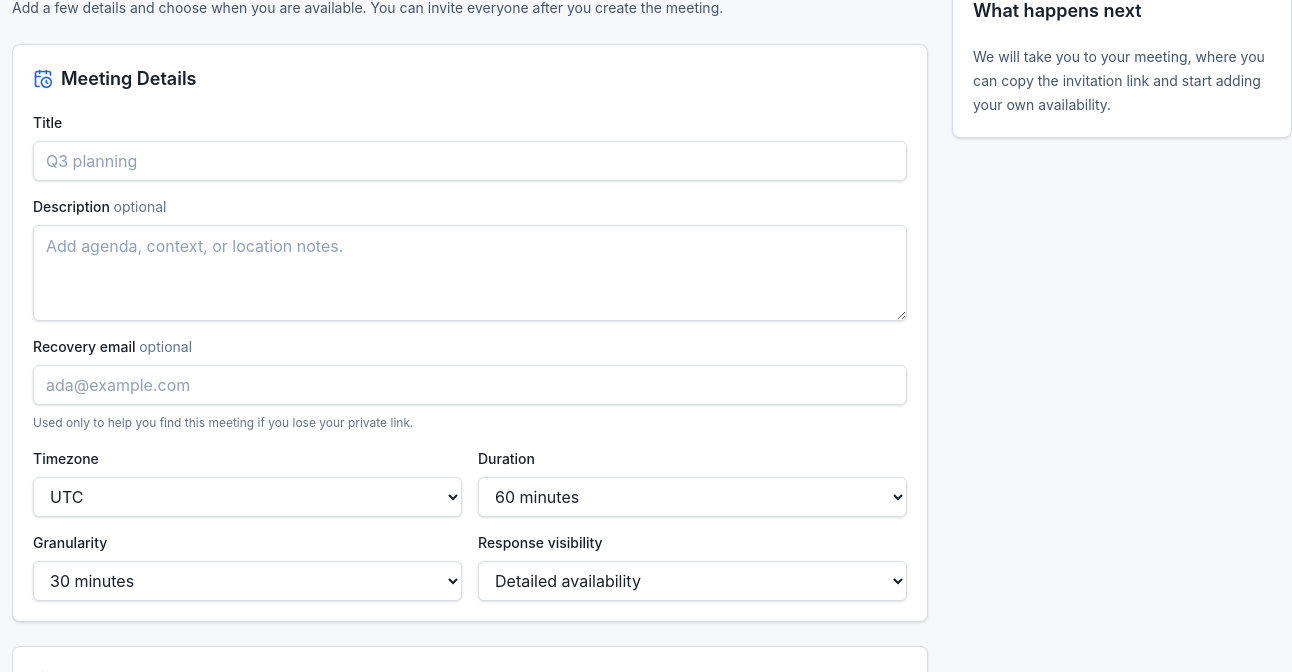
NewMeetingForm › blocks allowed ranges that cannot fit the meeting duration
The width and height of the screenshot is (1292, 672).
Type "Long workshop" into the field labelled "Title" at (470, 161), box [33,141,907,181]
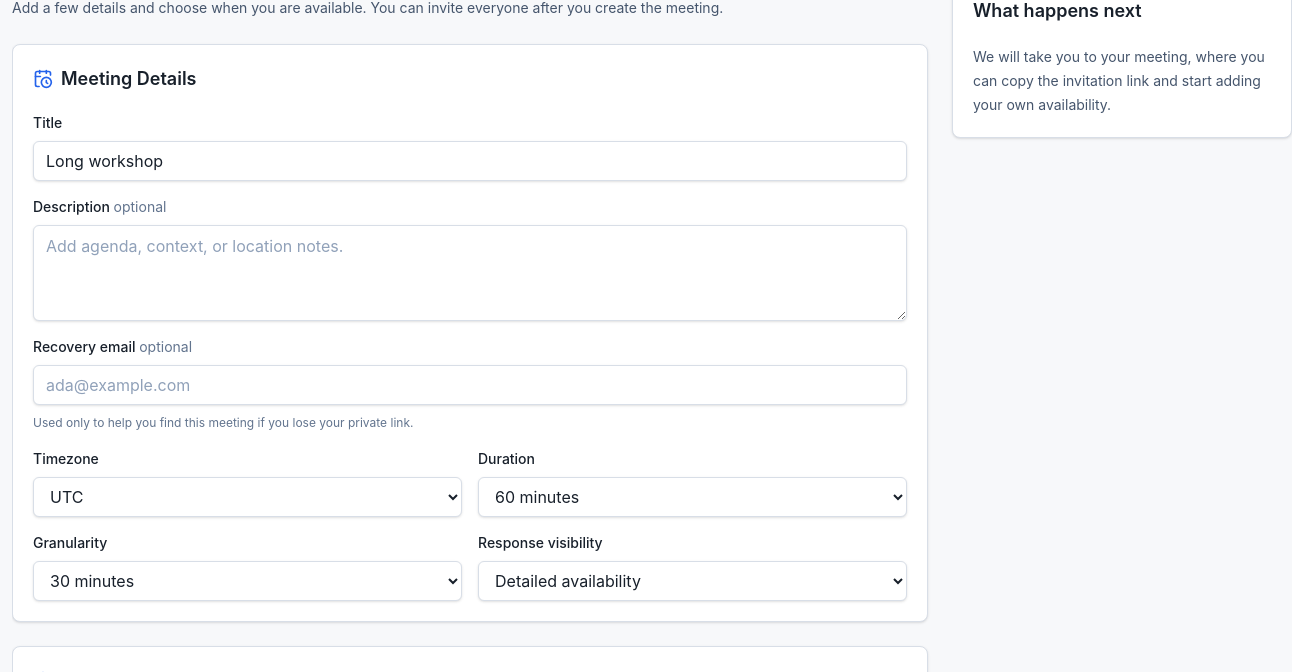
Select "2 hours" in the dropdown labelled "Duration" at (692, 497), box [478,477,907,517]
(page scrolled)
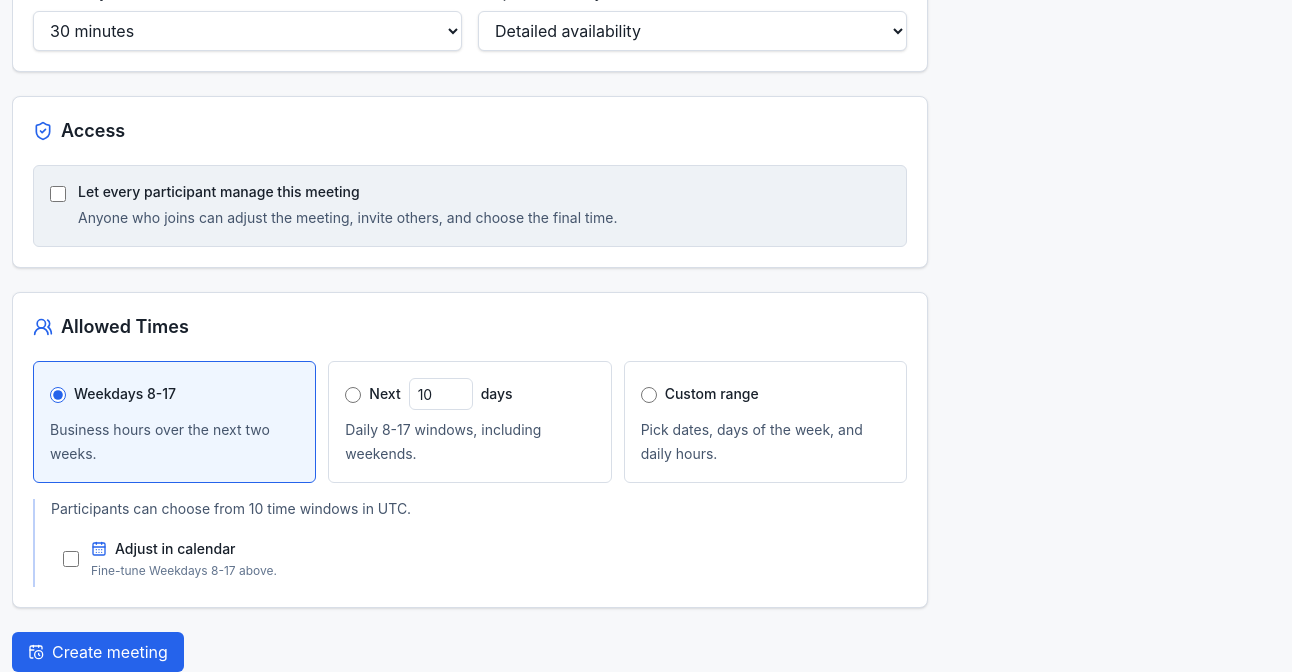
Click the radio button labelled "Custom range" at (649, 395), box [641,387,657,403]
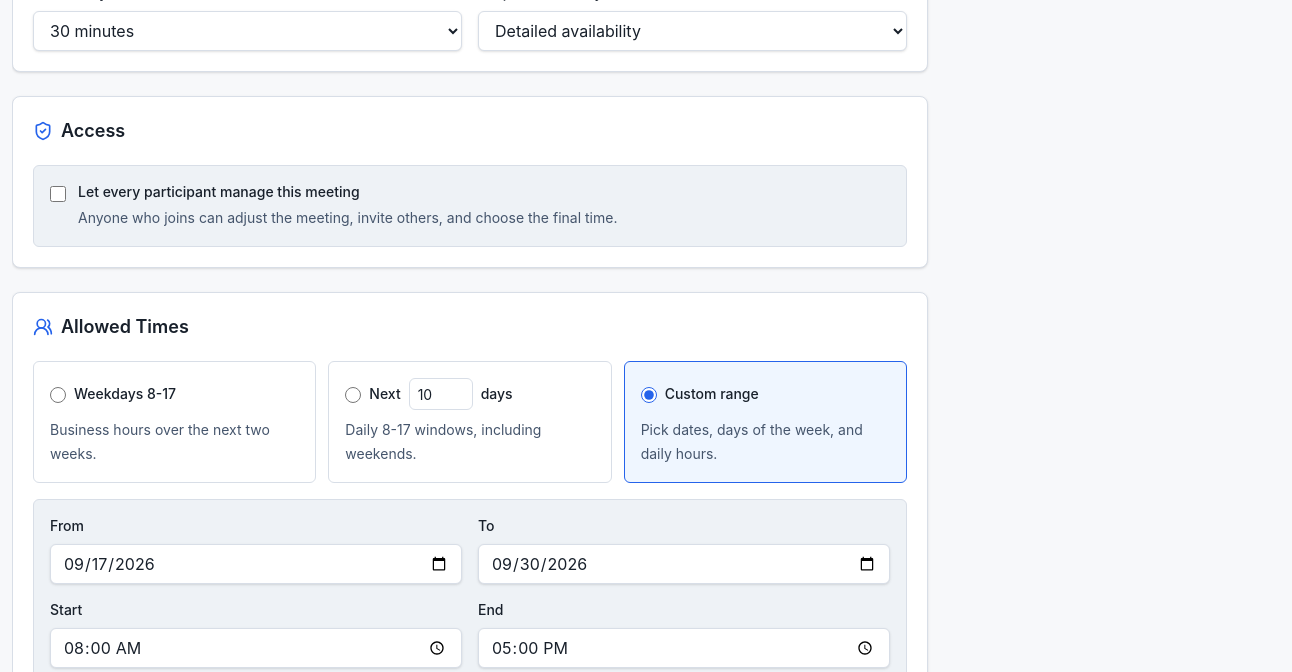
Replace the text in the time field labelled "Start" with "09:00" at (256, 648), box [50,628,462,668]
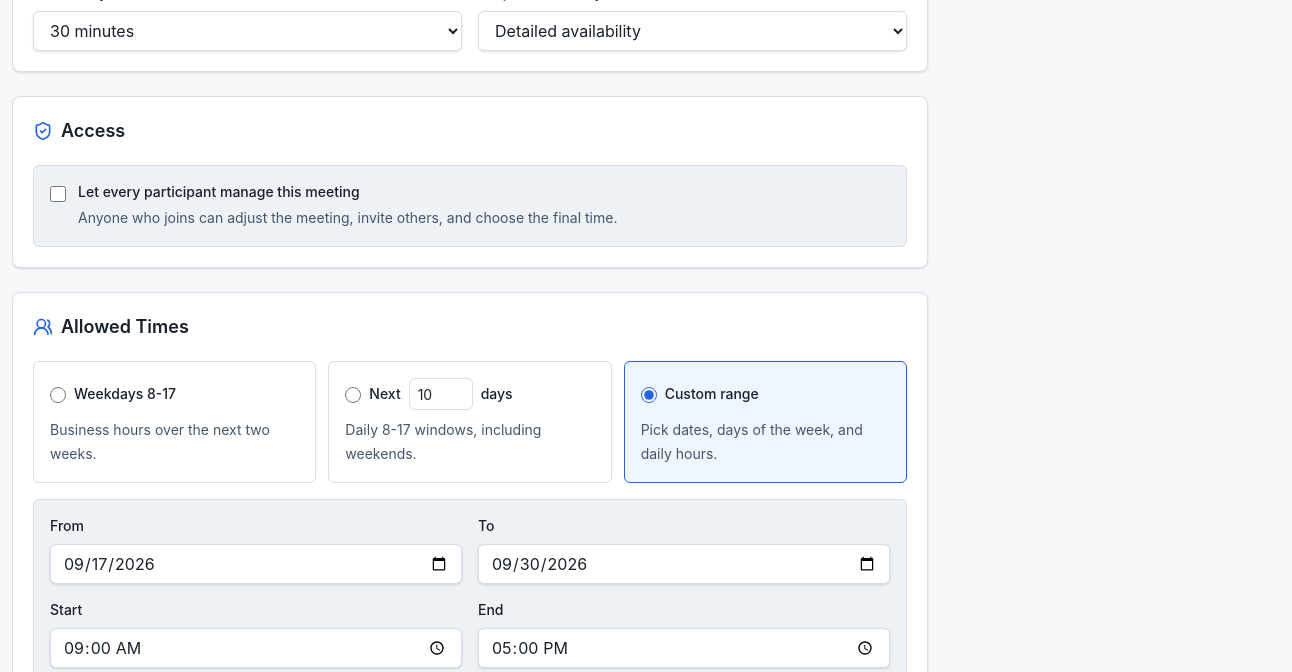
Replace the text in the time field labelled "End" with "10:00" at (684, 648), box [478,628,890,668]
(page scrolled)
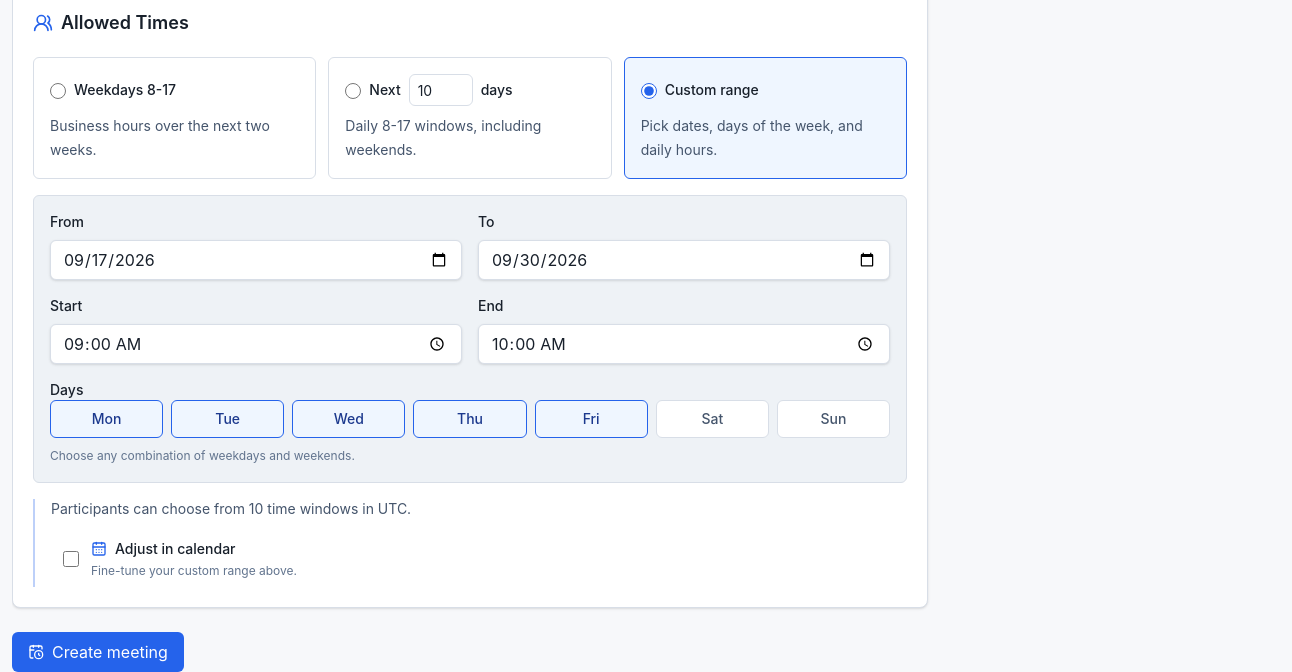
Click the button "Create meeting" at (98, 652), box [12,632,184,671]
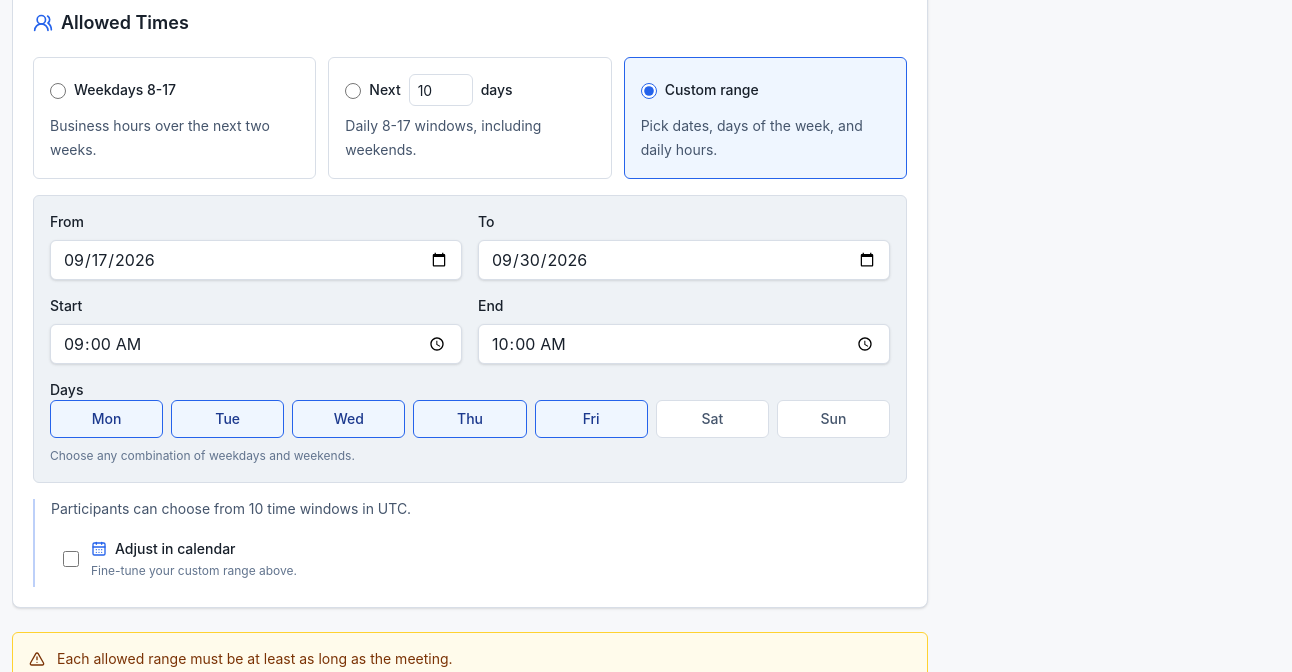
Expected: the text "Each allowed range must be at least as long as the meeting." is shown, [57,649,453,669]
